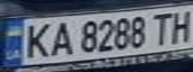2: (97, 16, 118, 53)
8: (75, 17, 100, 54), (127, 12, 151, 48), (112, 15, 133, 51)
A: (48, 19, 75, 57)
H: (166, 7, 193, 44)
K: (18, 20, 54, 60)
T: (148, 10, 175, 46)
